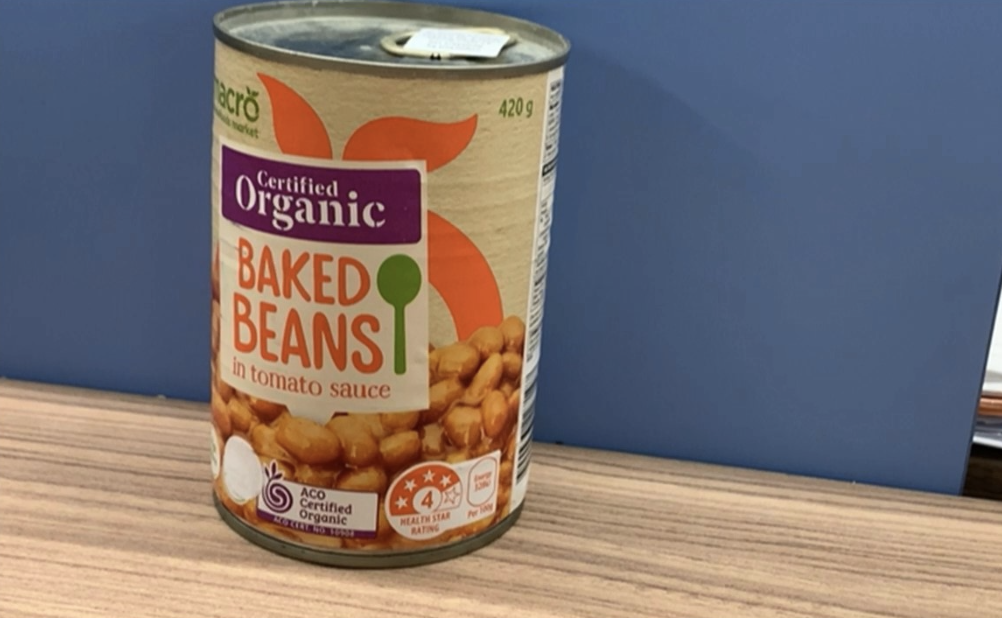Baked beans_400-499g: (221, 104, 488, 534)
